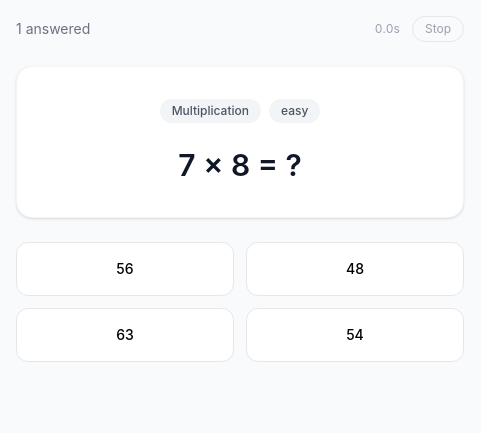
GamePage › shows correct feedback banner after correct answer
Click the button "56".
click(125, 268)  # box top-left (16, 242), bottom-right (234, 296)
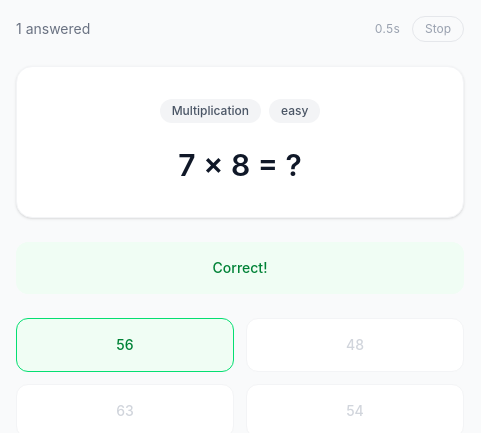
Result: the text "Correct!" is shown at top-left (16, 242), bottom-right (464, 294)
